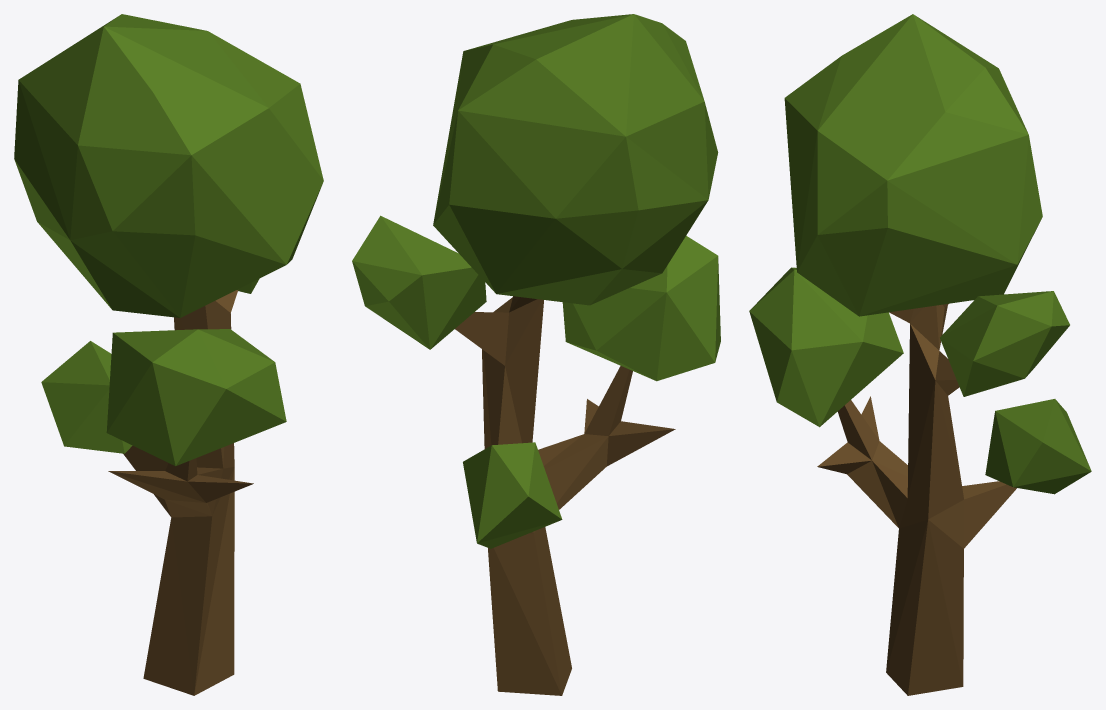
The model's file is temp-decid.moderate.gltf.
The picture shows the model from 3 angles, left to right: view 1: azimuth 30°, elevation 25°; view 2: azimuth 150°, elevation 25°; view 3: azimuth 270°, elevation 25°; orthographic projection. The views are drawn at different scales.
Visible parts, largest first — view 1: canopy, trunk; view 2: canopy, trunk; view 3: canopy, trunk.
Boxes of the visible parts, <box> form: canopy: <box>14,14,323,466</box>; trunk: <box>108,290,253,695</box>; canopy: <box>352,14,720,548</box>; trunk: <box>455,296,675,695</box>; canopy: <box>749,14,1091,494</box>; trunk: <box>817,303,1016,695</box>.
Size of the model in its own units: 2.58 by 6.01 by 2.99.
